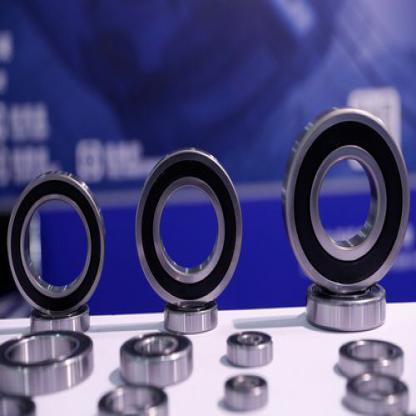FOD: (281, 104, 414, 298), (131, 142, 243, 305), (3, 165, 108, 315), (0, 330, 98, 392), (304, 276, 388, 335), (118, 328, 196, 388), (330, 337, 405, 381), (343, 367, 408, 413), (95, 381, 170, 415), (160, 299, 227, 333), (28, 304, 96, 336), (223, 328, 276, 369), (222, 370, 271, 411)
